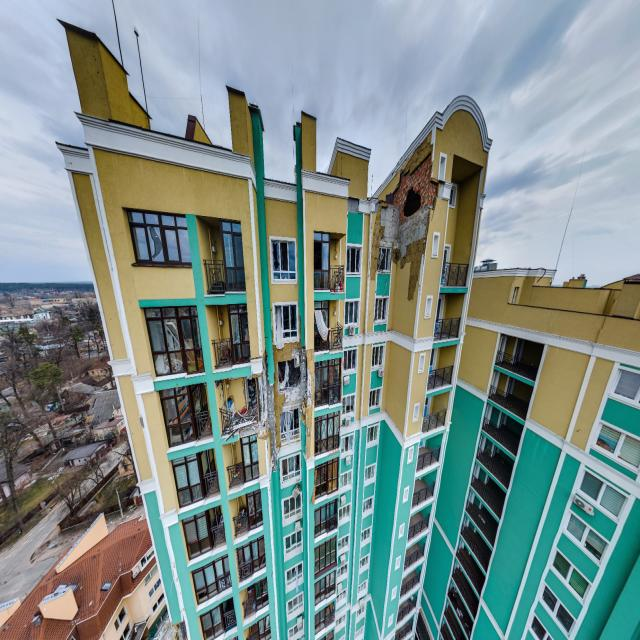broken_window: (144, 305, 206, 377), (127, 211, 191, 264), (315, 456, 339, 502), (271, 240, 296, 281), (346, 246, 362, 273)
building: (55, 95, 640, 640), (56, 18, 153, 130), (225, 85, 265, 178), (328, 137, 371, 200), (293, 112, 317, 186), (185, 114, 213, 145)
damage: (214, 302, 315, 475), (370, 136, 445, 301), (172, 609, 188, 640), (347, 198, 360, 212)
other: (244, 0, 640, 288), (95, 0, 294, 150), (0, 0, 132, 148)
